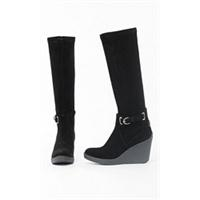shoe: (85, 28, 153, 164), (47, 36, 75, 164)
